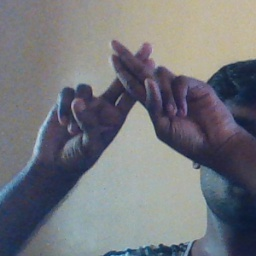F: (86, 33, 183, 142)
